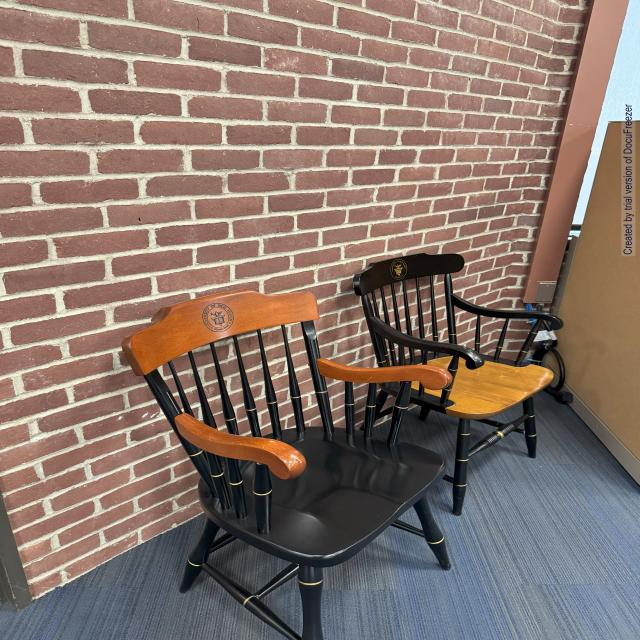chair: (117, 272, 459, 640), (350, 230, 570, 516)
